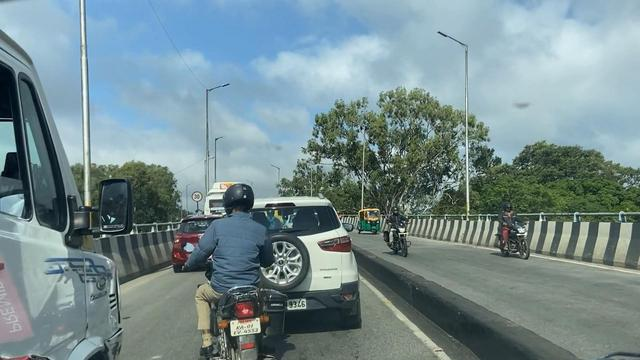LMV: (194, 184, 285, 360)
